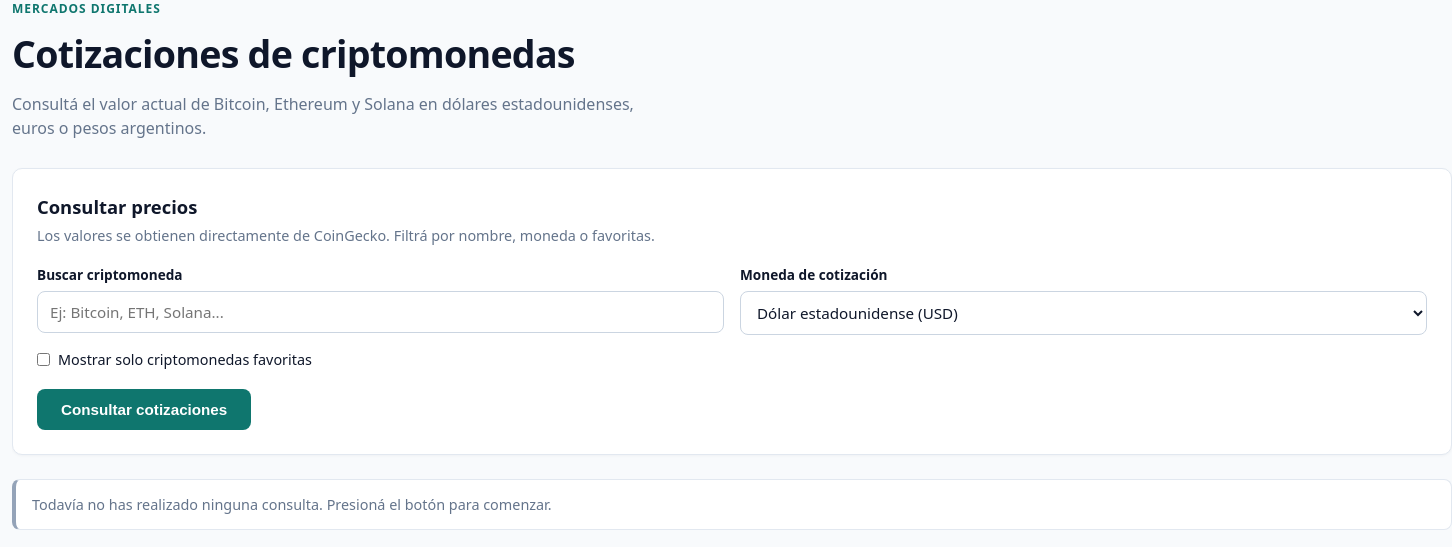
Test: HomePage - Consulta, carga, error y reintento › muestra el estado de carga mientras se consultan las cotizaciones
Step 1. Click the button "Consultar cotizaciones" → x=144, y=409, box [37,389,251,430]
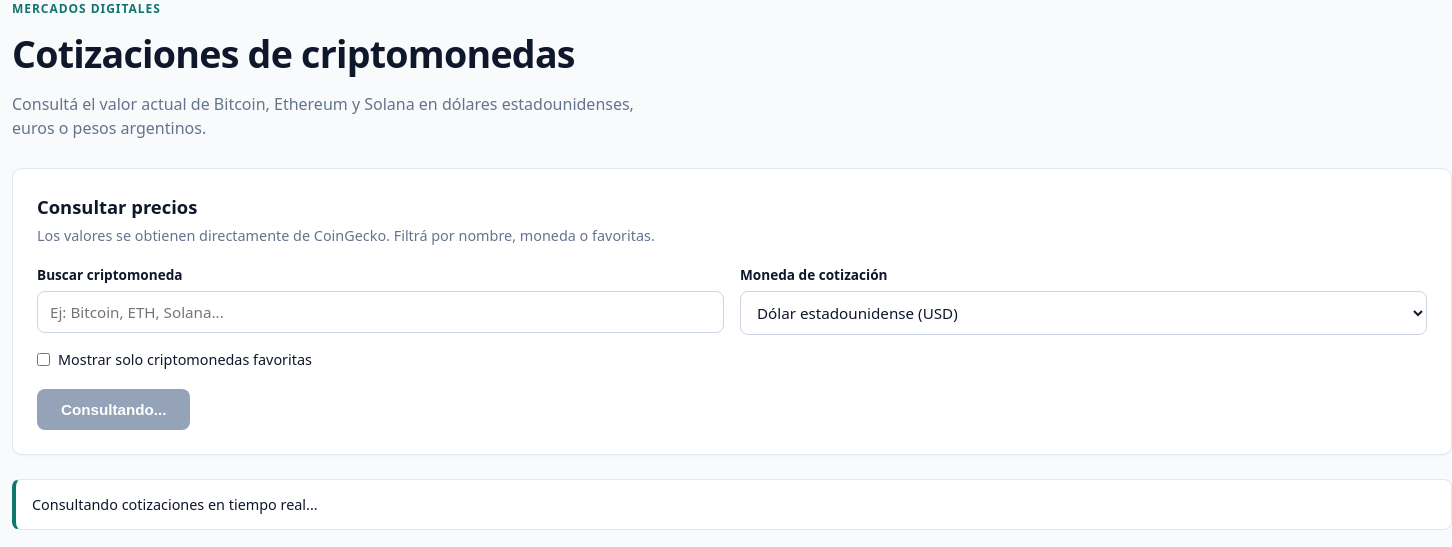
Now the text "Consultando cotizaciones en tiempo real..." is shown, box [32,495,318,514]
